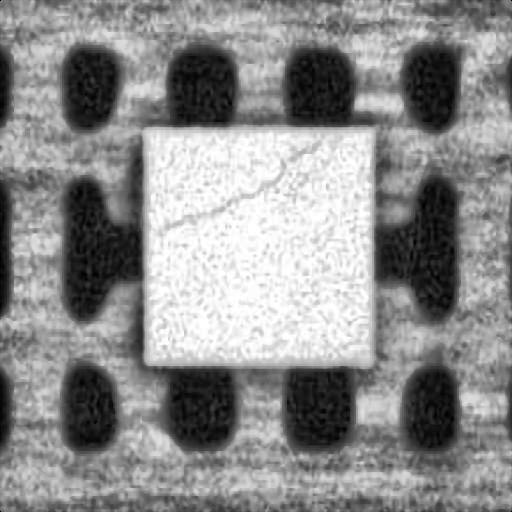DIE_CRACK: (158, 132, 320, 230)
